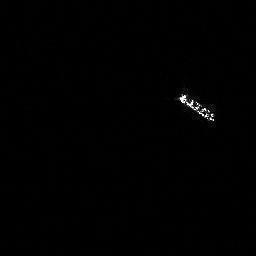ship: (173, 87, 219, 128)
